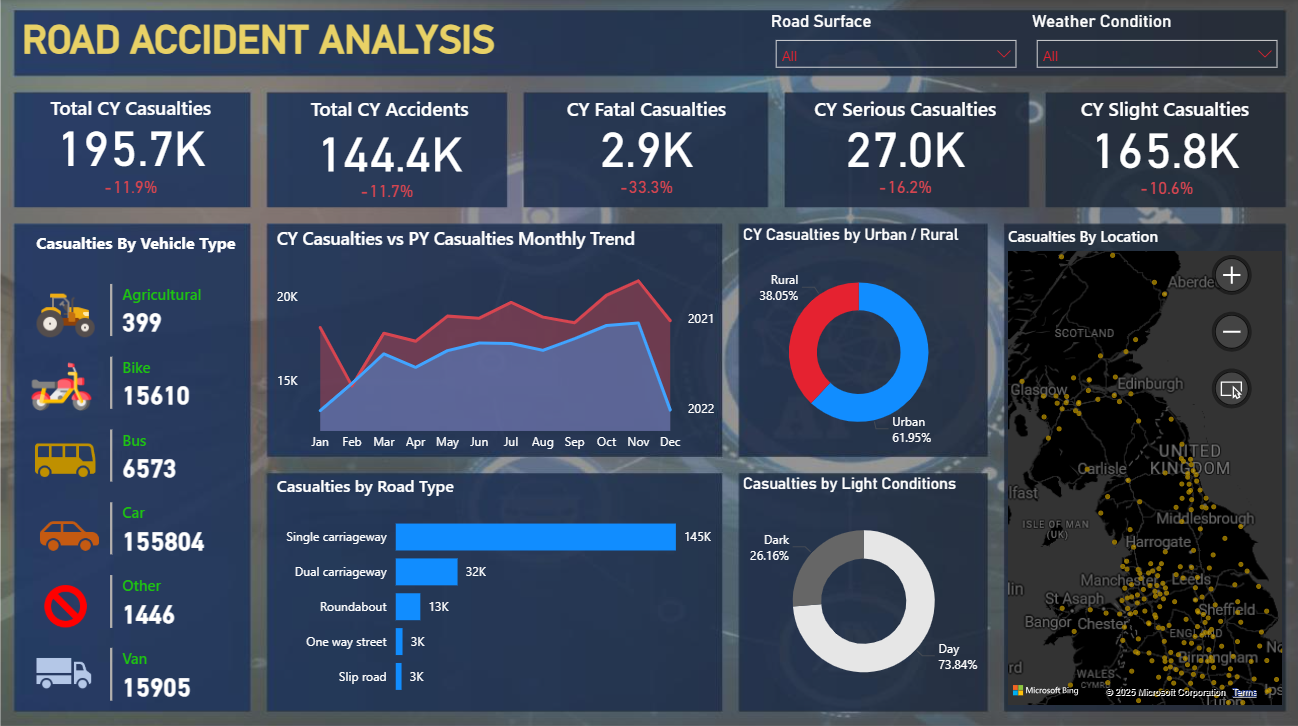

What the dashboard file says about the page in this screenshot:
{"tool":"powerbi","page":{"name":"Page 1","canvas":[1280,720],"ordinal":0},"visuals":[{"type":"group","id":"g1","title":"Group 1","box":[17.1,94.3,224.3,110],"z":0},{"type":"card","title":"Total CY Casualties","fields":{"Values":["Data.CY Casualties"]},"box":[17.1,94.3,223.8,92],"z":0,"group":"g2"},{"type":"card","title":"Total CY Accidents","fields":{"Values":["Data.CY Accidents"]},"box":[268.1,94.9,232.3,79.6],"z":0,"group":"g3"},{"type":"card","title":"CY Fatal Casualties","fields":{"Values":["Data.CY Casualties"]},"box":[512,95.1,250.1,91],"z":0,"group":"g4"},{"type":"card","title":"CY Serious Casualties","fields":{"Values":["Data.CY Casualties"]},"box":[773.2,95.1,238.1,91],"z":0,"group":"g5"},{"type":"card","title":"CY Slight Casualties","fields":{"Values":["Data.CY Casualties"]},"box":[1025.4,95.1,243.1,92],"z":0,"group":"g6"},{"type":"group","id":"g2","title":"Group 2","box":[17.1,94.3,223.8,109.6],"z":6,"group":"g1"},{"type":"group","id":"g3","title":"Group 1","box":[268.1,94.9,232.3,109.6],"z":1000},{"type":"card","fields":{"Values":["Data.YOY Casualties"]},"box":[1049.5,168.5,196.1,35.3],"z":1000,"group":"g6"},{"type":"card","fields":{"Values":["Data.YOY Casualties"]},"box":[37.9,168.7,180.8,35.2],"z":1000,"group":"g2"},{"type":"card","fields":{"Values":["Data.YOY Casualties"]},"box":[535.3,168.7,202.1,34.8],"z":1000,"group":"g4"},{"type":"card","fields":{"Values":["Data.YOY Casualties"]},"box":[795.3,168.7,192.4,34.8],"z":1000,"group":"g5"},{"type":"card","fields":{"Values":["Data.YOY Accidents"]},"box":[292.9,174.5,176.2,30],"z":1000,"group":"g3"},{"type":"group","id":"g4","title":"Group 1","box":[512,95.1,250.7,108.7],"z":2000},{"type":"group","id":"g5","title":"Group 1","box":[773.2,95.1,238.6,108.7],"z":3000},{"type":"group","id":"g6","title":"Group 1","box":[1025.4,95.1,243.1,108.7],"z":4000},{"type":"textbox","box":[17.1,11.4,1251.4,71.4],"z":5000},{"type":"multiRowCard","fields":{"Values":["Data.Vehicle_Type (groups)","Data.CY Casualties"]},"box":[102.7,274.9,140.4,445.5],"z":6000},{"type":"image","box":[18.1,347.3,84.6,69.5],"z":7000},{"type":"image","box":[18.1,416.8,92.1,75.5],"z":8000},{"type":"image","box":[25.7,492.3,84.6,74],"z":9000},{"type":"image","box":[25.7,566.3,77,63.4],"z":10000},{"type":"image","box":[23.3,275,81.7,71.7],"z":11000},{"type":"image","box":[22.7,629.7,81.6,69.5],"z":12000},{"type":"textbox","box":[25,223.3,218.3,31.7],"z":13000},{"type":"areaChart","title":"CY Casualties vs PY Casualties Monthly Trend","fields":{"Category":["Calendar.Month"],"Y":["Sum(Data.Number_of_Casualties)"],"Series":["Calendar.Date.Variation.Date Hierarchy.Year"]},"box":[267.6,223.2,443.8,231],"z":14000},{"type":"donutChart","title":"CY Casualties by Urban / Rural","fields":{"Category":["Data.Urban_or_Rural_Area"],"Y":["Data.CY Casualties"]},"box":[727.1,222.9,237.1,231.4],"z":15000},{"type":"donutChart","title":" Casualties by Light Conditions","fields":{"Y":["Data.CY Casualties"],"Category":["Data.Light_Conditions (groups)"]},"box":[727.1,468.6,247.1,231.4],"z":16000},{"type":"barChart","title":"Casualties by Road Type","fields":{"Category":["Data.Road_Type"],"Y":["Data.CY Casualties"]},"box":[267.1,468.6,444.3,231.4],"z":17000},{"type":"map","title":"Casualties By Location","fields":{"Y":["Data.Latitude"],"X":["Data.Longitude"],"Category":["Data.Local_Authority_(District)"]},"box":[988.6,222.9,280,477.1],"z":18000},{"type":"slicer","title":"Weather Condition","fields":{"Values":["Data.Weather_Conditions (groups)"]},"box":[1011.7,11.7,256.7,58.3],"z":19000},{"type":"slicer","title":"Road Surface","fields":{"Values":["Data.Road_Surface_Conditions (groups)"]},"box":[755,11.7,256.7,58.3],"z":20000}]}

Visuals, with their boxes in screenshot pixels (x1, y1, x2, y2), scaled from the page's 1280x720 canvas onto the 1298x726 screenshot:
"Group 1" group: <box>17,95,245,206</box>
"Total CY Casualties" card: <box>17,95,244,188</box>
"Total CY Accidents" card: <box>272,96,507,176</box>
"CY Fatal Casualties" card: <box>519,96,773,188</box>
"CY Serious Casualties" card: <box>784,96,1026,188</box>
"CY Slight Casualties" card: <box>1040,96,1286,189</box>
"Group 2" group: <box>17,95,244,206</box>
"Group 1" group: <box>272,96,507,206</box>
card - Data.YOY Casualties: <box>1064,170,1263,205</box>
card - Data.YOY Casualties: <box>38,170,222,206</box>
card - Data.YOY Casualties: <box>543,170,748,205</box>
card - Data.YOY Casualties: <box>806,170,1002,205</box>
card - Data.YOY Accidents: <box>297,176,476,206</box>
"Group 1" group: <box>519,96,773,205</box>
"Group 1" group: <box>784,96,1026,205</box>
"Group 1" group: <box>1040,96,1286,205</box>
textbox: <box>17,11,1286,83</box>
multiRowCard - Data.Vehicle_Type (groups) x Data.CY Casualties: <box>104,277,247,725</box>
image: <box>18,350,104,420</box>
image: <box>18,420,112,496</box>
image: <box>26,496,112,571</box>
image: <box>26,571,104,635</box>
image: <box>24,277,106,350</box>
image: <box>23,635,106,705</box>
textbox: <box>25,225,247,257</box>
"CY Casualties vs PY Casualties Monthly Trend" areaChart: <box>271,225,721,458</box>
"CY Casualties by Urban / Rural" donutChart: <box>737,225,978,458</box>
" Casualties by Light Conditions" donutChart: <box>737,473,988,706</box>
"Casualties by Road Type" barChart: <box>271,473,721,706</box>
"Casualties By Location" map: <box>1003,225,1286,706</box>
"Weather Condition" slicer: <box>1026,12,1286,71</box>
"Road Surface" slicer: <box>766,12,1026,71</box>
